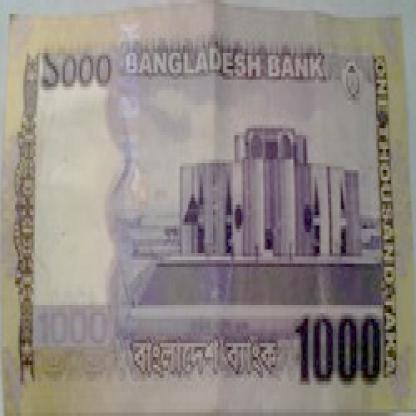One Thousand taka: (291, 312, 386, 395), (40, 45, 115, 101), (35, 305, 110, 350)
